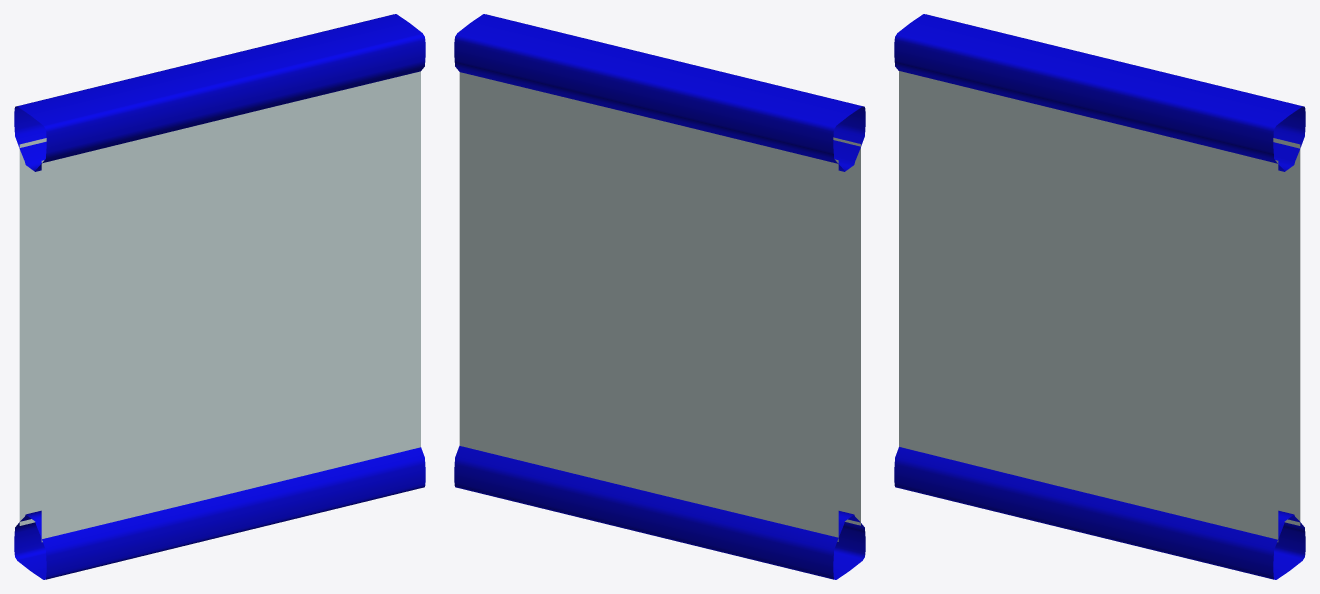
File: MidWindow.fbx
3 renders of one model, left to right at view 1: azimuth 30°, elevation 25°; view 2: azimuth 150°, elevation 25°; view 3: azimuth 330°, elevation 25°, orthographic.
Visible parts, largest first — view 1: Glass, polySurface4, polySurface3; view 2: Glass, polySurface4, polySurface3; view 3: Glass, polySurface4, polySurface3.
Boxes of the visible parts, x1,y1,x2,y2 form: Glass: [19, 71, 420, 542]; polySurface4: [14, 14, 425, 171]; polySurface3: [14, 447, 425, 579]; Glass: [459, 72, 860, 541]; polySurface4: [454, 14, 865, 171]; polySurface3: [454, 446, 865, 579]; Glass: [899, 71, 1300, 542]; polySurface4: [894, 14, 1305, 171]; polySurface3: [894, 447, 1305, 579].
Size of the model in its own units: 6 by 6.89 by 0.888.
